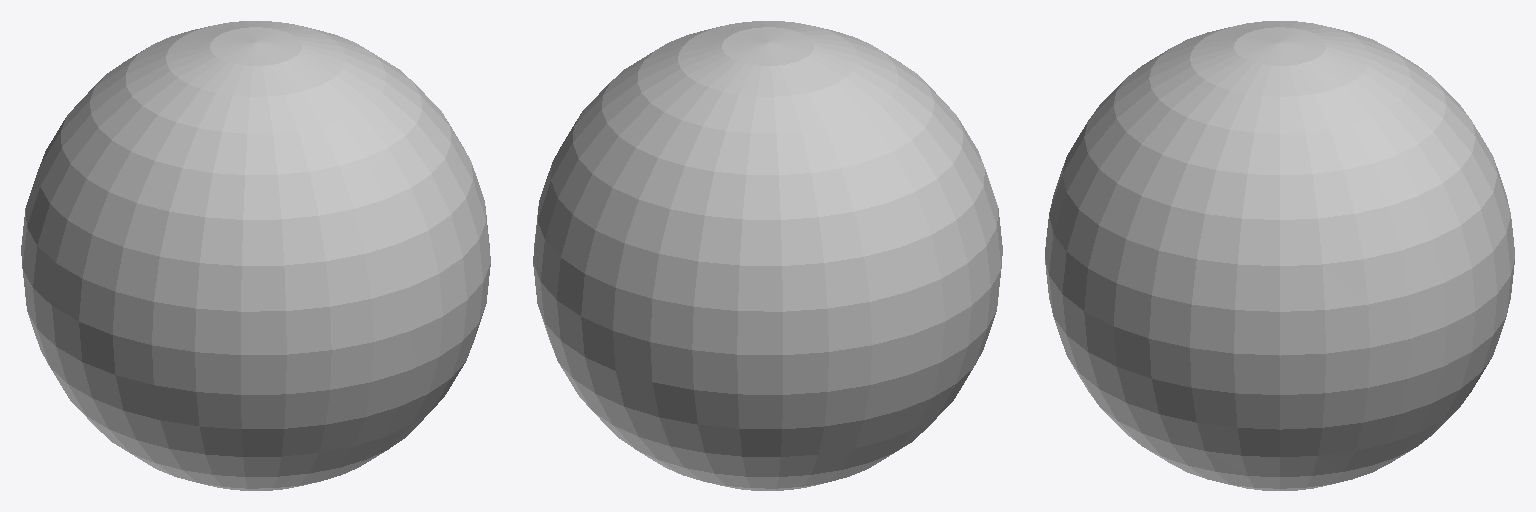
File: esfera.obj
The picture shows the model from 3 angles: view 1: azimuth 30°, elevation 25°; view 2: azimuth 150°, elevation 25°; view 3: azimuth 270°, elevation 25°; orthographic projection.
Parts seen in each view (by area): view 1: Sphere; view 2: Sphere; view 3: Sphere.
Boxes of the visible parts, x1,y1,x2,y2 form: Sphere: [21, 21, 490, 490]; Sphere: [533, 21, 1002, 490]; Sphere: [1045, 21, 1514, 490].
Bounding box in the file's own units: 0.1 × 0.1 × 0.1.